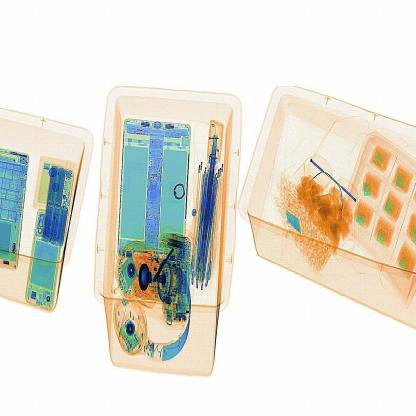knife: (149, 239, 181, 288)
